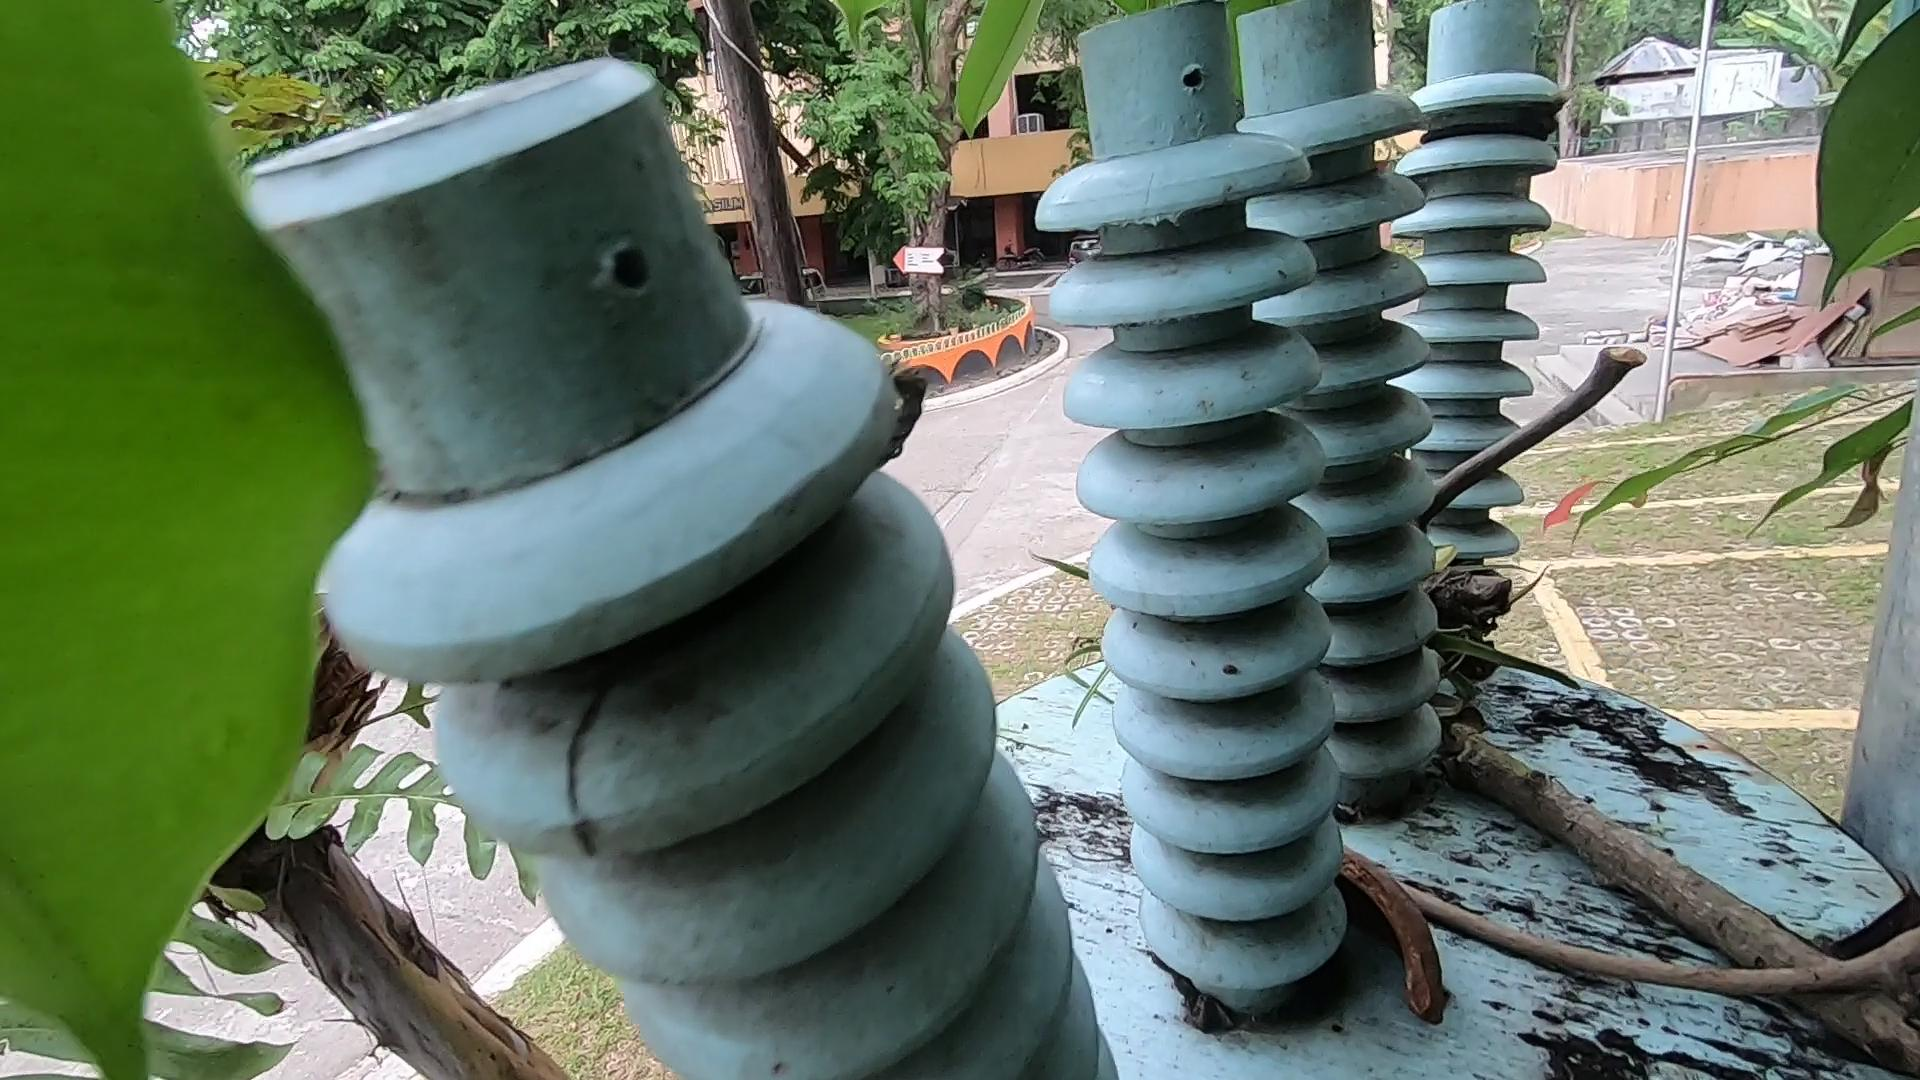branch with leaves: (1393, 574, 1913, 1080)
leaf: (1837, 898, 1920, 1010)
mahogany fruit: (1329, 786, 1462, 1030)
tree branch: (1299, 819, 1920, 1048), (1445, 218, 1718, 574)
